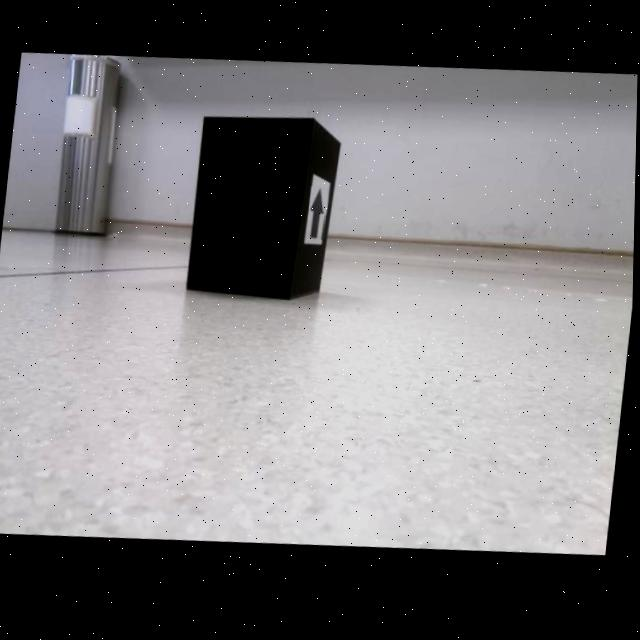UP: (310, 190, 326, 243)
